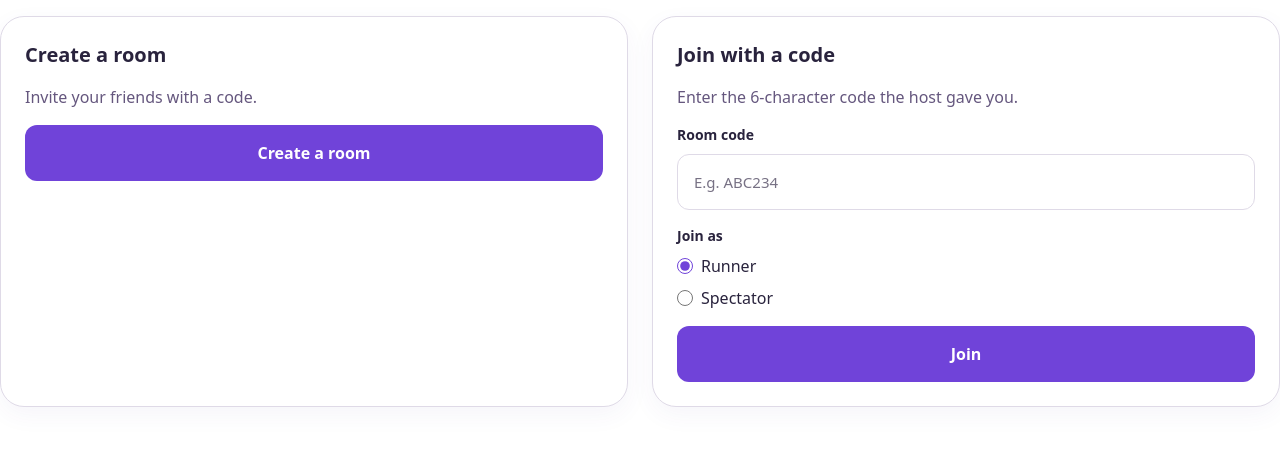
Test case: page de jeu, membre hors salle (en) › n'ouvre rien pour un code invalide
In the field labelled "Room code": x=966, y=182 [677,154,1255,210], type "12"
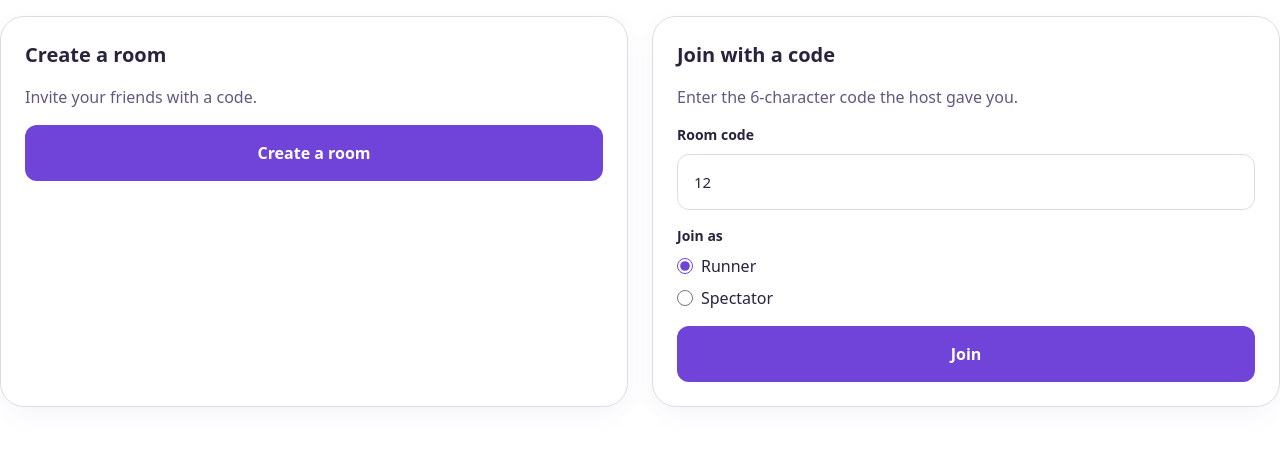
Click the button "Join": x=966, y=354 [677,326,1255,382]
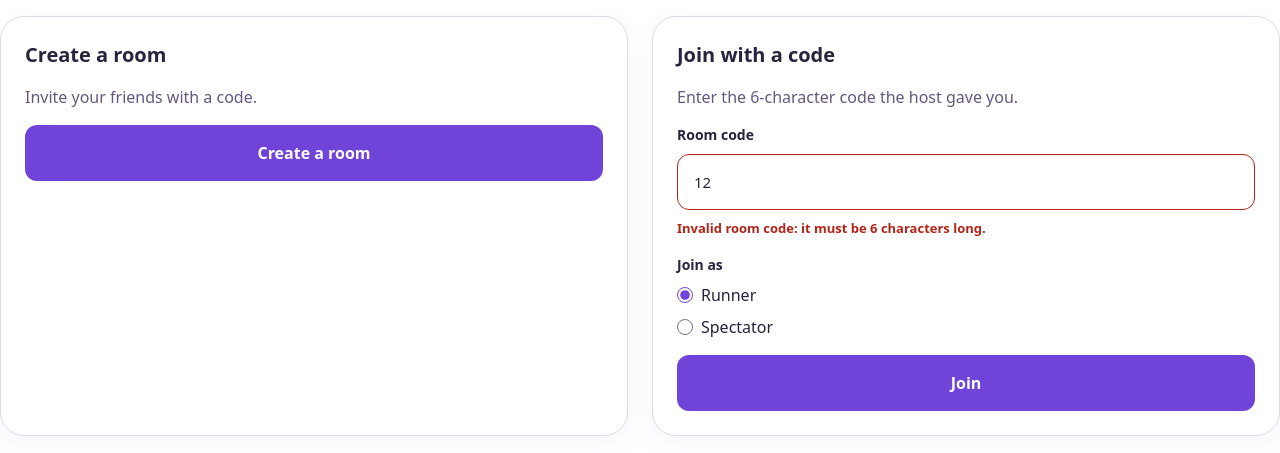
Result: the text "Invalid room code: it must be 6 characters long." is shown at [677,219,986,237]
